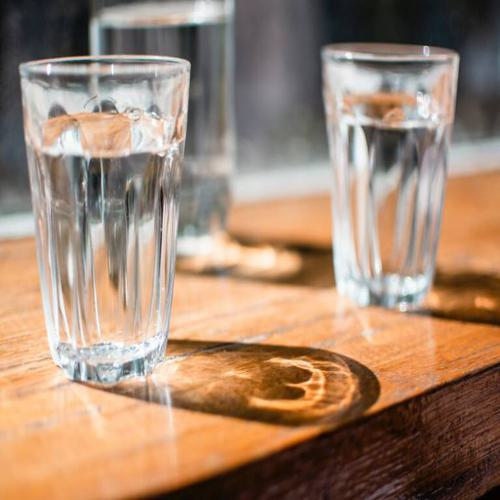vaso: (19, 58, 191, 386), (321, 44, 460, 313)
